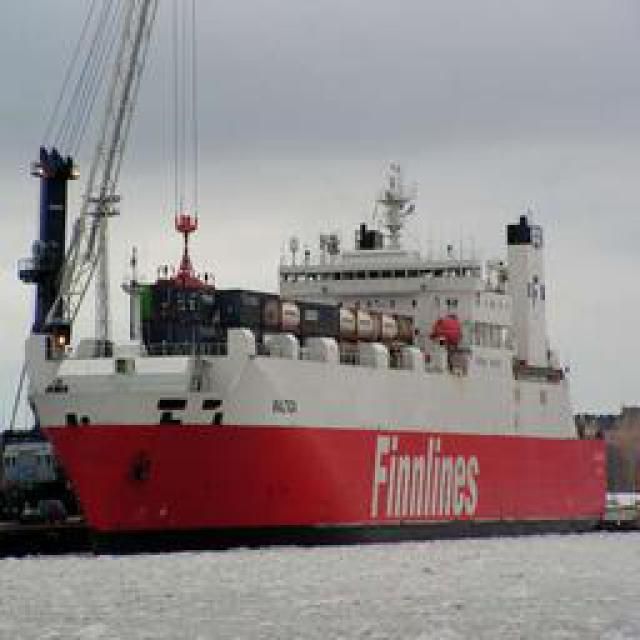Ship: (21, 88, 601, 523)
